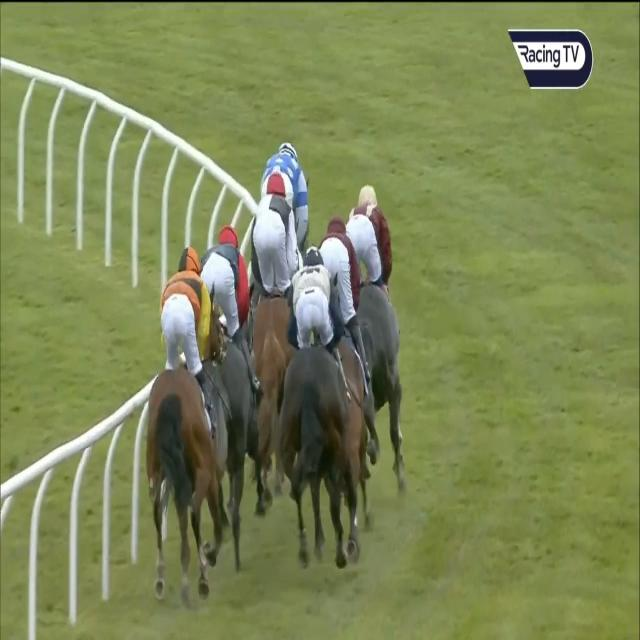horses-racing: (143, 222, 224, 578), (284, 244, 348, 577), (344, 174, 398, 476), (236, 178, 308, 398), (316, 200, 374, 434), (200, 222, 258, 438), (252, 136, 320, 242)
